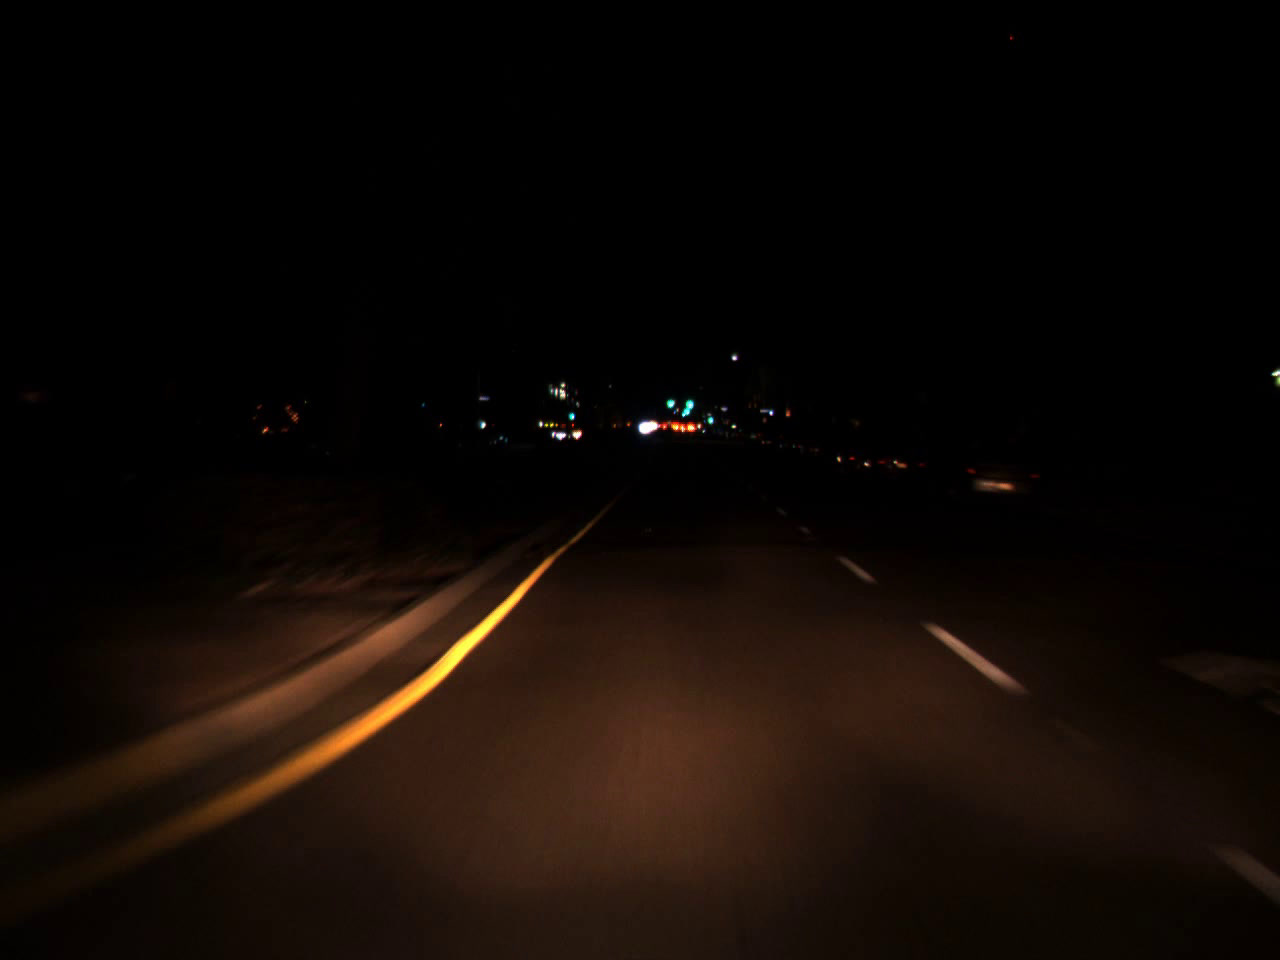go: (680, 389, 694, 413), (664, 389, 674, 410), (568, 406, 575, 421), (707, 412, 714, 424)
